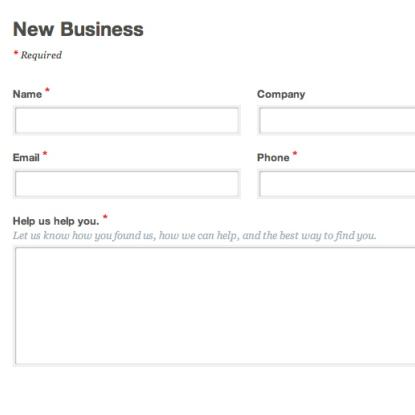field: (13, 104, 241, 138), (14, 168, 242, 200)
field_with_label: (11, 150, 246, 203), (10, 87, 244, 140)
